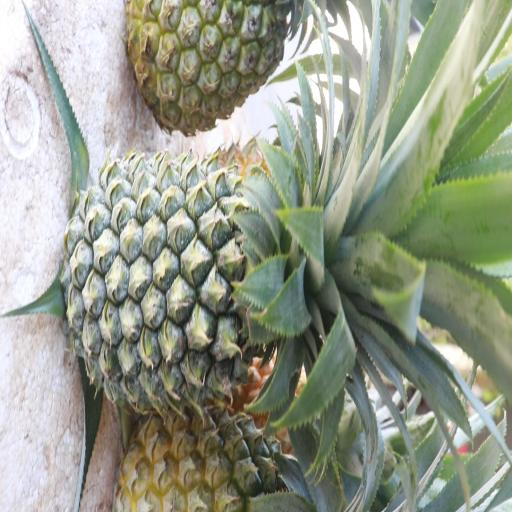------------------------------: (123, 400, 327, 512), (126, 0, 296, 132)
